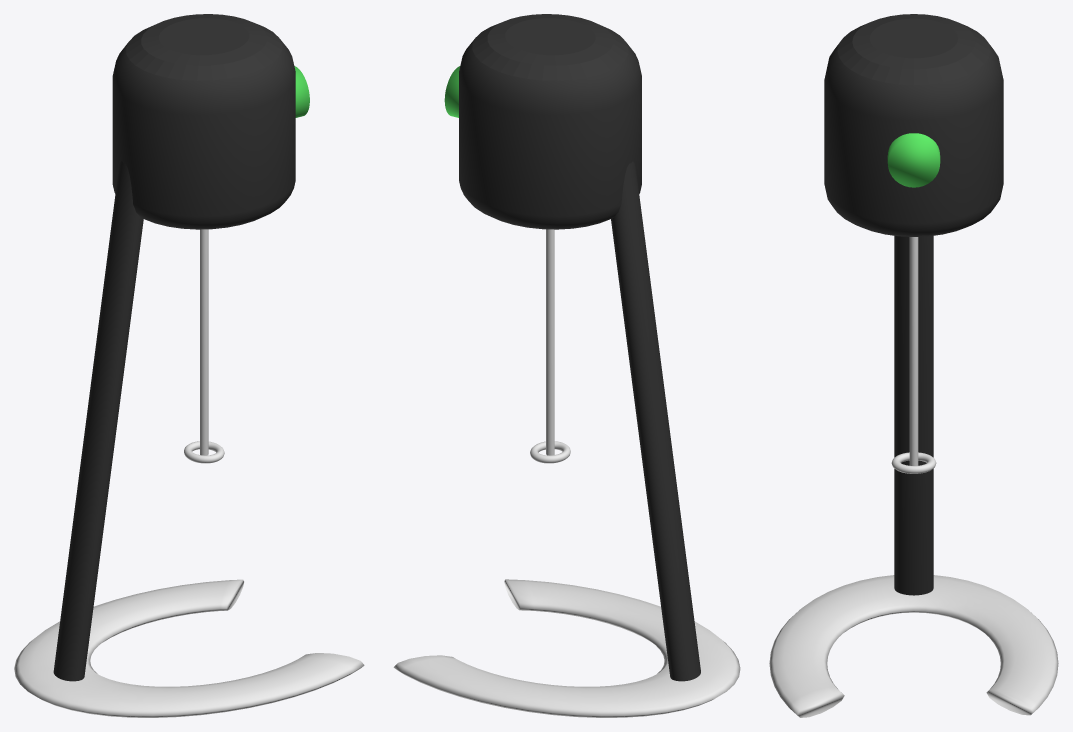
Rendered from frother.glb.
3 views of the same model, side by side, from view 1: azimuth 30°, elevation 25°; view 2: azimuth 150°, elevation 25°; view 3: azimuth 270°, elevation 25° (orthographic). The views are drawn at different scales.
Visible parts, largest first — view 1: Cylinder.001, Torus, Cylinder, Cylinder.002, Cylinder.003, Torus.001; view 2: Cylinder.001, Torus, Cylinder, Cylinder.002, Torus.001, Cylinder.003; view 3: Cylinder.001, Torus, Cylinder, Cylinder.003, Cylinder.002, Torus.001.
Part boxes in pixels (<box>): Cylinder.001: <box>112,14,295,229</box>; Torus: <box>14,579,364,717</box>; Cylinder: <box>53,161,143,681</box>; Cylinder.002: <box>200,229,208,455</box>; Cylinder.003: <box>294,66,309,117</box>; Torus.001: <box>184,441,224,463</box>; Cylinder.001: <box>459,14,641,229</box>; Torus: <box>393,579,740,717</box>; Cylinder: <box>611,161,700,681</box>; Cylinder.002: <box>546,229,554,455</box>; Torus.001: <box>530,441,570,463</box>; Cylinder.003: <box>444,66,460,117</box>; Cylinder.001: <box>824,14,1003,236</box>; Torus: <box>769,575,1058,717</box>; Cylinder: <box>894,235,933,595</box>; Cylinder.003: <box>887,133,940,187</box>; Cylinder.002: <box>909,237,918,465</box>; Torus.001: <box>891,452,936,473</box>.
Size of the model in its own units: 0.661 by 1.4 by 0.5788.
